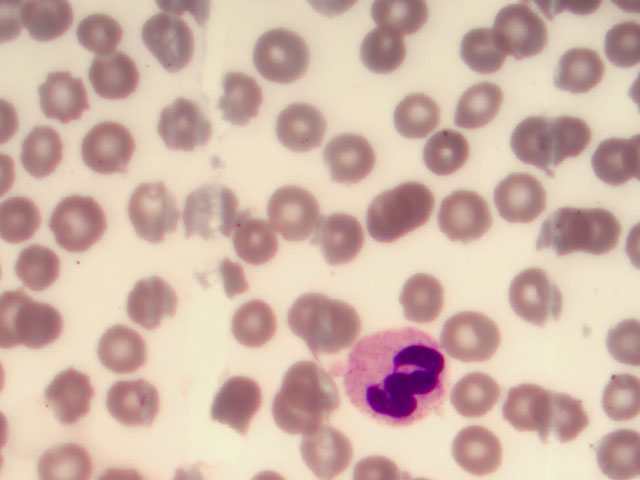RBC: (39, 67, 92, 122), (84, 50, 137, 105), (70, 3, 123, 58), (13, 1, 66, 56), (83, 117, 136, 172), (14, 124, 67, 179), (53, 200, 106, 255), (12, 241, 65, 296), (3, 191, 56, 246), (23, 293, 76, 348), (97, 320, 150, 375), (125, 273, 178, 328), (108, 371, 161, 426), (50, 369, 103, 424), (210, 375, 263, 430), (224, 296, 277, 351), (204, 252, 257, 307), (228, 223, 281, 278), (184, 185, 237, 240), (133, 179, 186, 234), (156, 101, 209, 156), (207, 69, 260, 124), (254, 33, 307, 88), (150, 15, 203, 70), (392, 87, 445, 142), (329, 133, 382, 188), (281, 103, 334, 158), (267, 184, 320, 239), (319, 210, 372, 265), (291, 290, 344, 345), (282, 365, 335, 420), (270, 406, 323, 461), (300, 424, 353, 479), (450, 425, 503, 480), (451, 373, 504, 428), (445, 307, 498, 362), (397, 270, 450, 325), (387, 171, 440, 226), (357, 188, 410, 243), (437, 191, 490, 246), (425, 122, 478, 177), (458, 76, 511, 131), (457, 19, 510, 74), (492, 7, 545, 62), (564, 44, 617, 99), (361, 28, 414, 83), (500, 108, 553, 163), (534, 109, 587, 164), (500, 168, 553, 223), (536, 204, 589, 259), (575, 202, 628, 257), (518, 259, 571, 314), (485, 383, 538, 438), (550, 392, 603, 447), (587, 384, 640, 439), (587, 314, 640, 369), (585, 427, 640, 480), (587, 129, 640, 184)
WBC: (346, 325, 446, 418)
